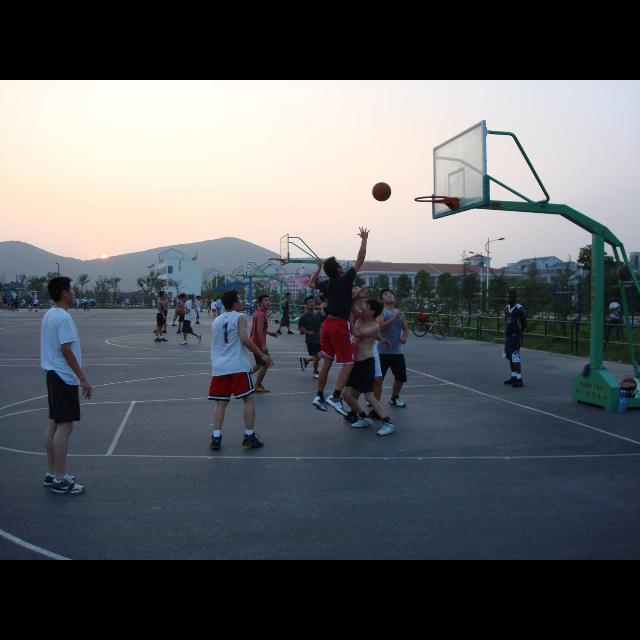head: (48, 276, 76, 306), (361, 299, 384, 319), (222, 292, 244, 310), (323, 259, 345, 277), (379, 290, 395, 304), (352, 284, 366, 300), (258, 295, 272, 309), (304, 297, 316, 309), (507, 292, 518, 304), (318, 296, 326, 304), (179, 294, 187, 302), (159, 291, 165, 299), (286, 294, 292, 300), (181, 294, 187, 300), (178, 294, 184, 300), (162, 294, 168, 300), (612, 297, 618, 303), (197, 297, 201, 301), (198, 297, 200, 301), (218, 296, 220, 300), (16, 296, 18, 300), (174, 298, 176, 300), (191, 298, 193, 300), (206, 297, 208, 299), (214, 300, 216, 302), (127, 297, 129, 299), (85, 298, 87, 300), (8, 296, 10, 298), (32, 298, 34, 300), (38, 299, 40, 301), (41, 297, 43, 299), (75, 297, 77, 299)
person: (306, 225, 372, 420), (38, 274, 94, 498), (206, 288, 276, 452), (345, 282, 397, 438), (342, 282, 392, 423), (369, 286, 411, 416), (233, 292, 280, 394), (500, 290, 530, 390), (298, 298, 332, 380), (178, 292, 202, 346), (275, 292, 295, 336), (154, 291, 168, 343), (606, 296, 622, 340), (300, 294, 316, 336), (152, 294, 168, 334), (318, 295, 330, 339), (176, 294, 188, 334), (172, 294, 186, 326), (193, 295, 203, 323), (194, 296, 202, 324), (210, 298, 218, 318), (215, 296, 222, 316), (27, 296, 35, 312), (125, 296, 131, 312), (83, 296, 89, 312), (6, 295, 12, 311), (14, 296, 20, 312), (172, 296, 178, 310), (34, 298, 40, 312), (74, 297, 80, 311), (204, 296, 208, 312), (40, 296, 44, 312), (189, 297, 193, 311)
